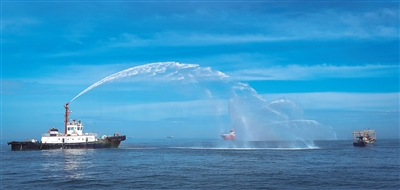otherboat: (7, 102, 130, 151), (352, 127, 378, 148)
